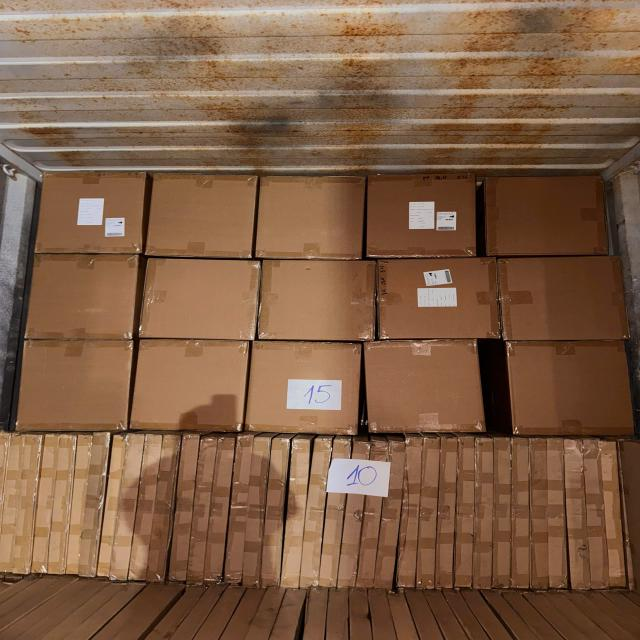Carton: (506, 338, 635, 434), (366, 338, 486, 433), (498, 256, 630, 342), (16, 337, 135, 430), (246, 338, 360, 433), (135, 339, 251, 432), (375, 257, 498, 342), (486, 176, 613, 256), (23, 253, 138, 340), (144, 257, 262, 341), (261, 259, 379, 343), (369, 170, 481, 256), (150, 173, 257, 260), (256, 174, 363, 261), (35, 172, 145, 255)
